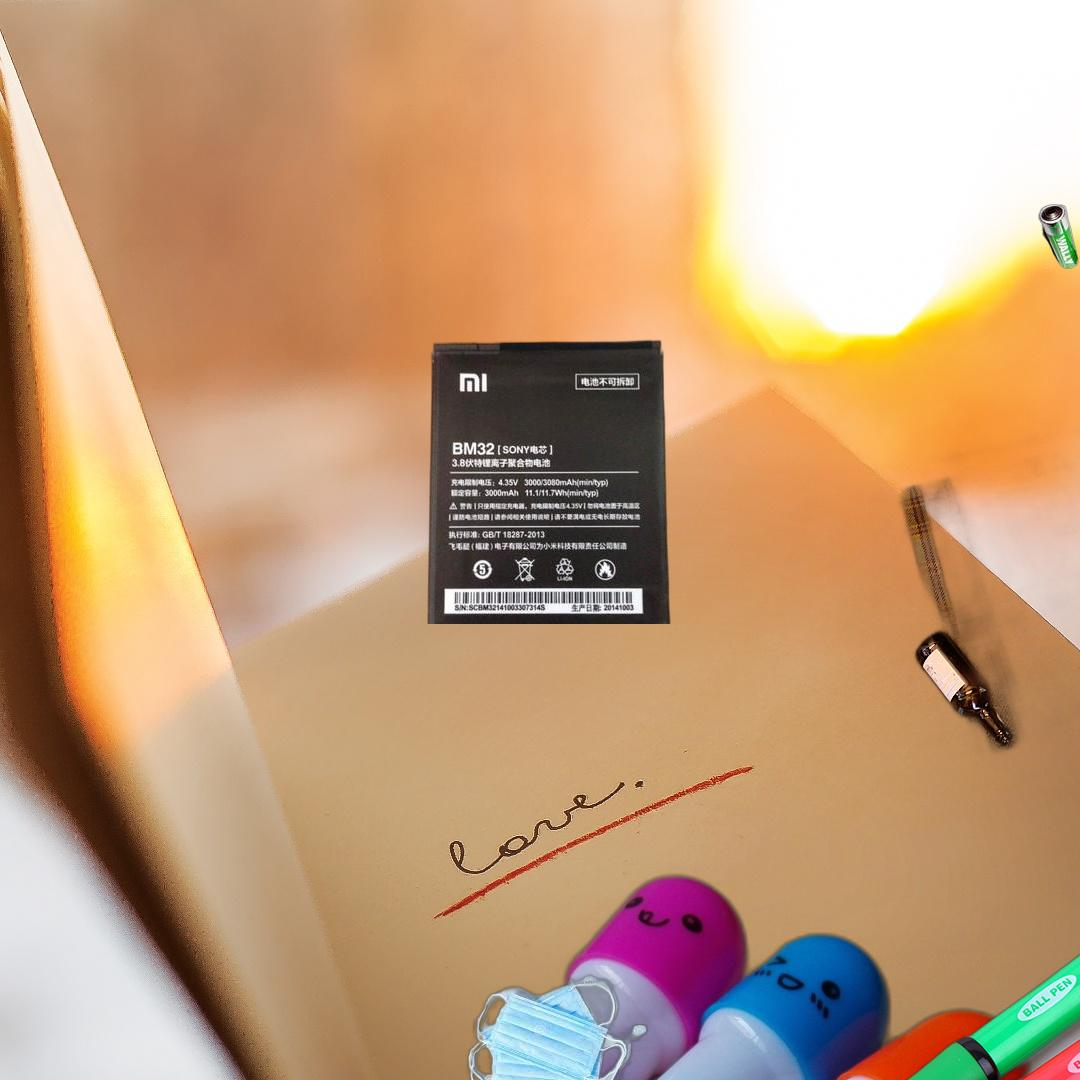battery: (425, 337, 673, 624), (1036, 202, 1080, 273)
glass: (785, 323, 1080, 833)
penholder: (290, 867, 1080, 1080), (711, 759, 1080, 1080)
trash: (464, 953, 650, 1080)
